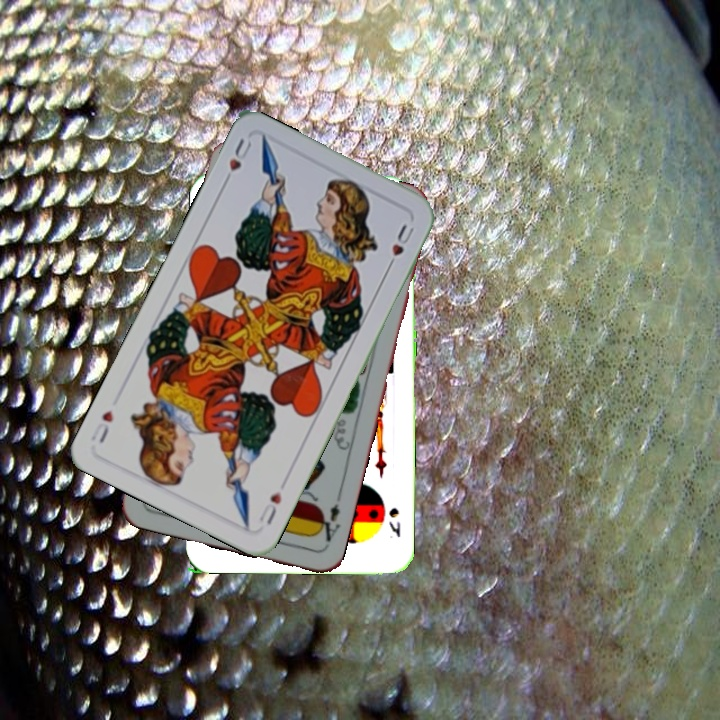EA: (312, 499, 343, 544)
HU: (218, 133, 254, 189), (255, 488, 284, 527)
SK: (385, 503, 403, 540)
